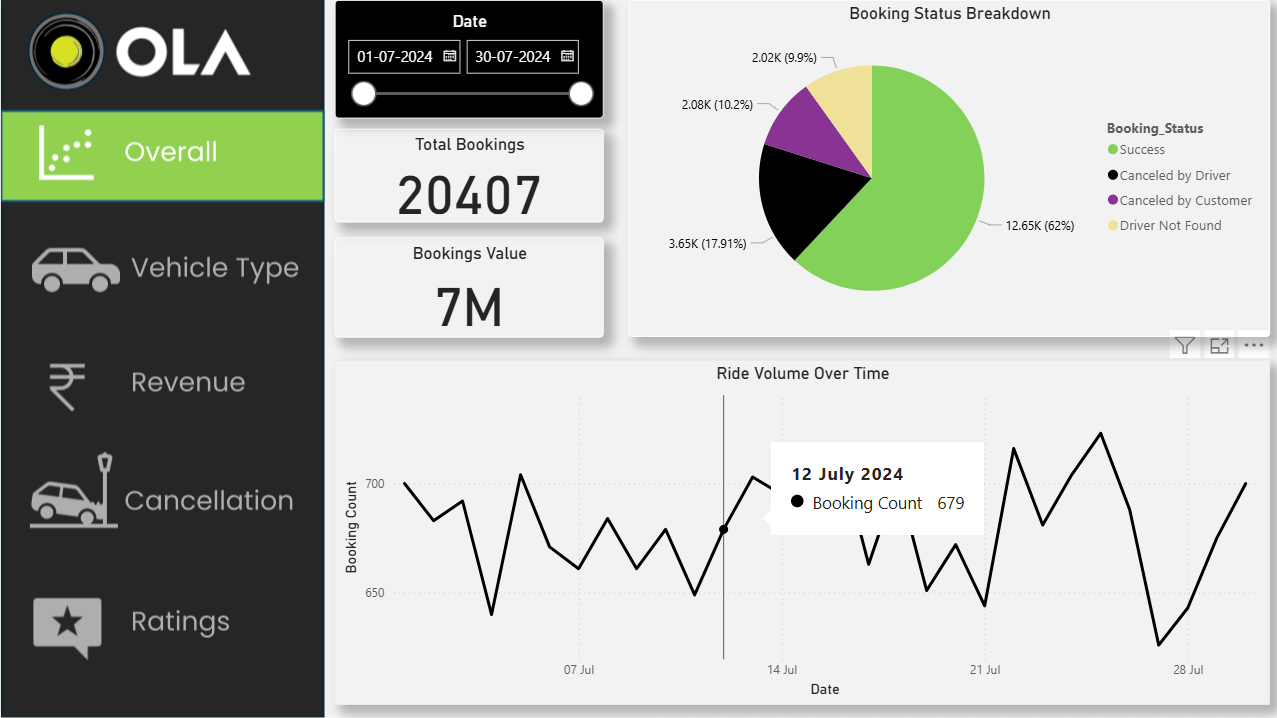

This screenshot's page, from the dashboard's own definition file:
{"tool":"powerbi","page":{"name":"Overall","canvas":[1280,720],"ordinal":0},"visuals":[{"type":"actionButton","box":[0,222,322.1,92.9],"z":0},{"type":"actionButton","box":[1.2,337.8,322.1,92.9],"z":1000},{"type":"actionButton","box":[1.2,446.4,322.1,92.9],"z":2000},{"type":"actionButton","box":[2.4,579.1,320.9,88.1],"z":3000},{"type":"lineChart","title":"Ride Volume Over Time","fields":{"Y":["CountNonNull(July.Booking_ID)"],"Category":["July.Date"]},"box":[333.8,360,935,345],"z":4000},{"type":"pieChart","title":"Booking Status Breakdown","fields":{"Category":["July.Booking_Status"],"Y":["CountNonNull(July.Booking_Status)"]},"box":[627.1,0,641.4,337.1],"z":5000},{"type":"slicer","title":"Date","fields":{"Values":["July.Date"]},"box":[334.3,0,268.6,118.6],"z":6000},{"type":"card","title":"Total Bookings","fields":{"Values":["CountNonNull(July.Booking_ID)"]},"box":[333.8,128.8,268.8,93.8],"z":7000},{"type":"card","title":"Bookings Value","fields":{"Values":["Sum(July.Booking_Value)"]},"box":[333.8,237.5,268.8,100],"z":8000}]}

Visuals, with their boxes in screenshot pixels (x1, y1, x2, y2), scaled from the page's 1280x720 canvas onto the 1277x718 screenshot:
actionButton: (0,221,321,314)
actionButton: (1,337,323,430)
actionButton: (1,445,323,538)
actionButton: (2,577,323,665)
"Ride Volume Over Time" lineChart: (333,359,1266,703)
"Booking Status Breakdown" pieChart: (626,0,1266,336)
"Date" slicer: (334,0,601,118)
"Total Bookings" card: (333,128,601,222)
"Bookings Value" card: (333,237,601,337)
